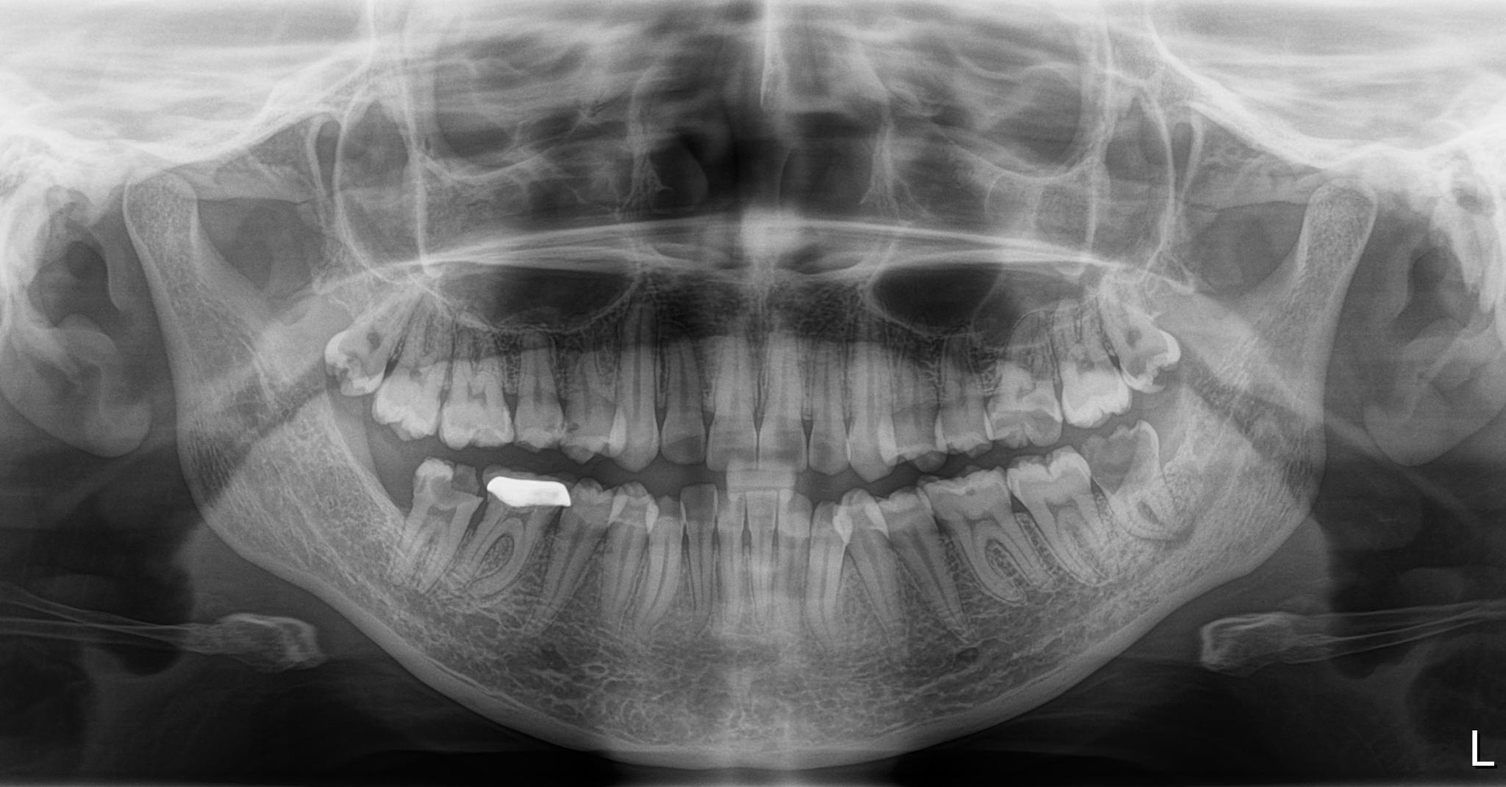Dental Caries: (415, 452, 483, 559), (1088, 423, 1195, 481), (533, 386, 621, 455), (1109, 321, 1191, 393), (934, 467, 1021, 530), (329, 327, 386, 400)
Periapical Lesion: (1114, 476, 1193, 585)
